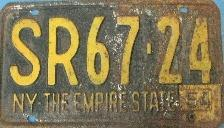2: (154, 12, 186, 87)
4: (187, 14, 215, 86)
6: (84, 15, 113, 86)
7: (114, 14, 143, 87)
R: (45, 14, 82, 88)
S: (6, 17, 45, 87)
